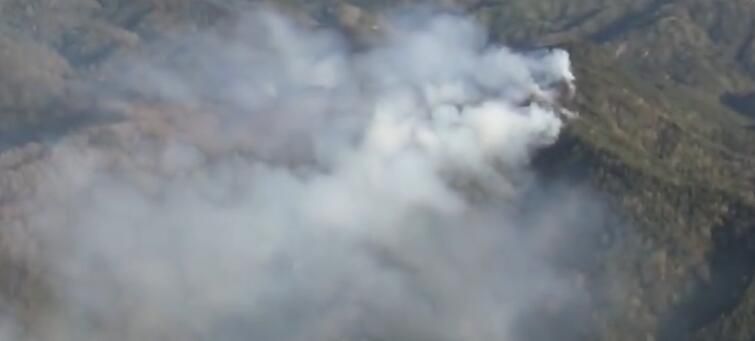yanwu: (0, 1, 610, 339)
